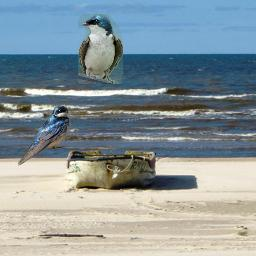Swallow: (18, 104, 71, 166), (78, 14, 123, 84)
